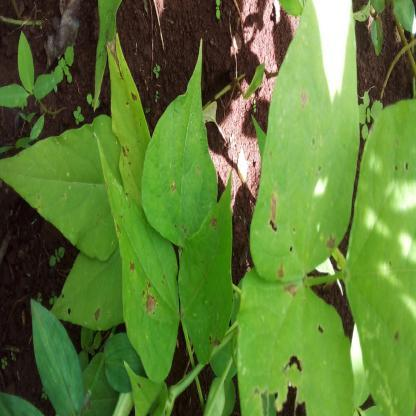Beans_Angular_LeafSpot: (60, 34, 178, 374), (251, 6, 365, 283), (347, 94, 416, 416), (237, 266, 353, 416)
